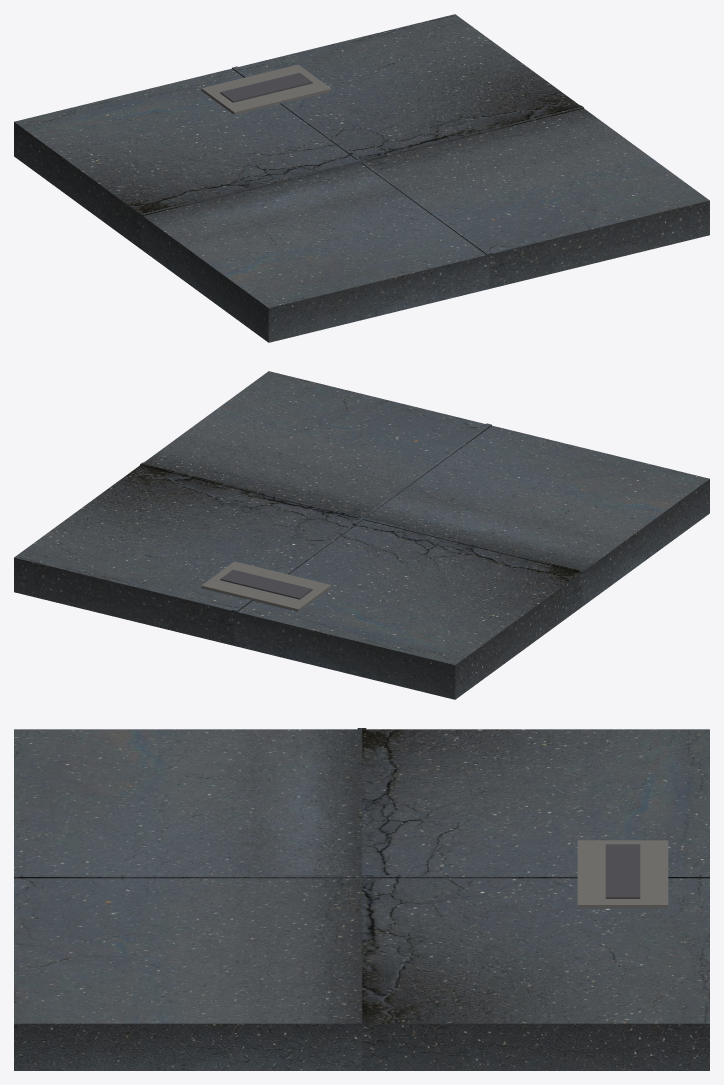
The model's file is env_street_slab_a.glb.
3 views of the same model, one above another, from view 1: azimuth 30°, elevation 25°; view 2: azimuth 150°, elevation 25°; view 3: azimuth 270°, elevation 25° (orthographic). The views are drawn at different scales.
Visible parts, largest first — view 1: env_street_slab_a; view 2: env_street_slab_a; view 3: env_street_slab_a.
Boxes of the visible parts, x1=… form: env_street_slab_a: x1=14, y1=14, x2=709, y2=342; env_street_slab_a: x1=14, y1=371, x2=709, y2=699; env_street_slab_a: x1=14, y1=728, x2=709, y2=1070.
Size of the model in its own units: 2 by 0.168 by 2.
4 materials, 2 textured.
